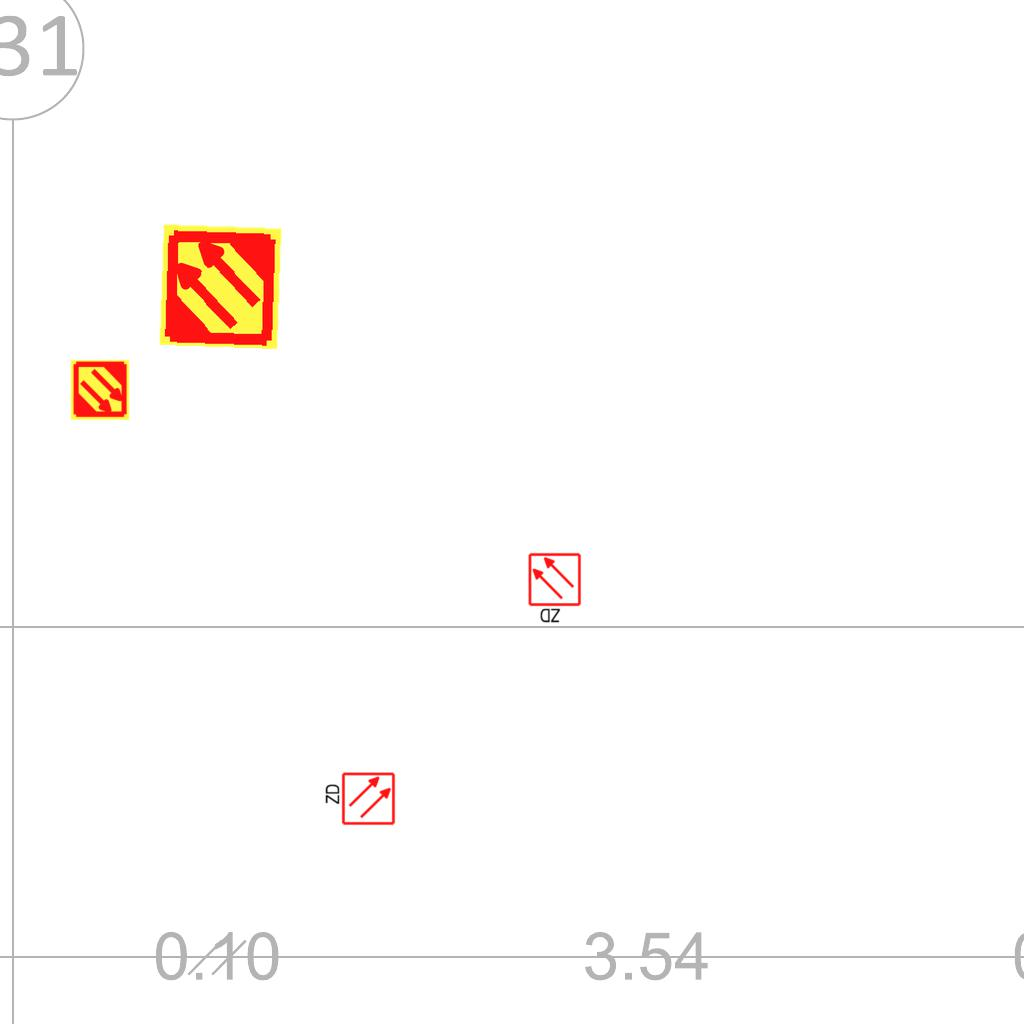ASR_Ansaugrauchmelder: (155, 221, 286, 352), (69, 359, 131, 421)
ZD_Melder_in_Zwischendecke_mit_Revisionsoeffnung_mind_40_x_40_cm: (322, 771, 396, 828), (527, 552, 584, 626)
